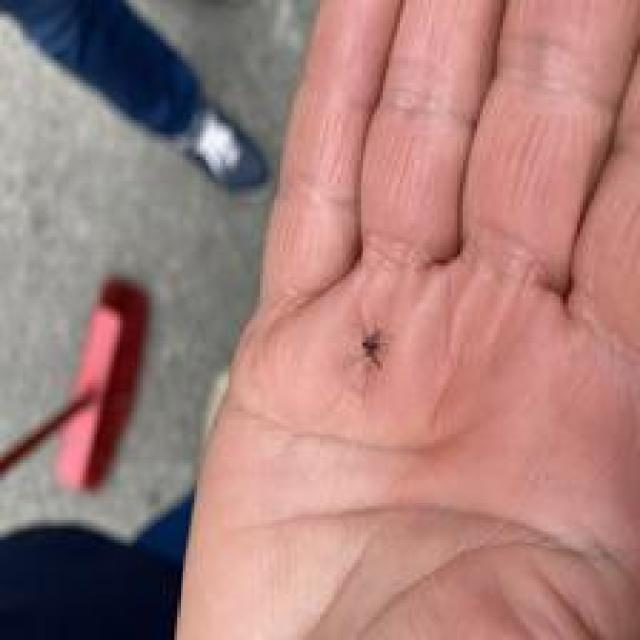Aedes albopictus: (0, 273, 151, 496)
